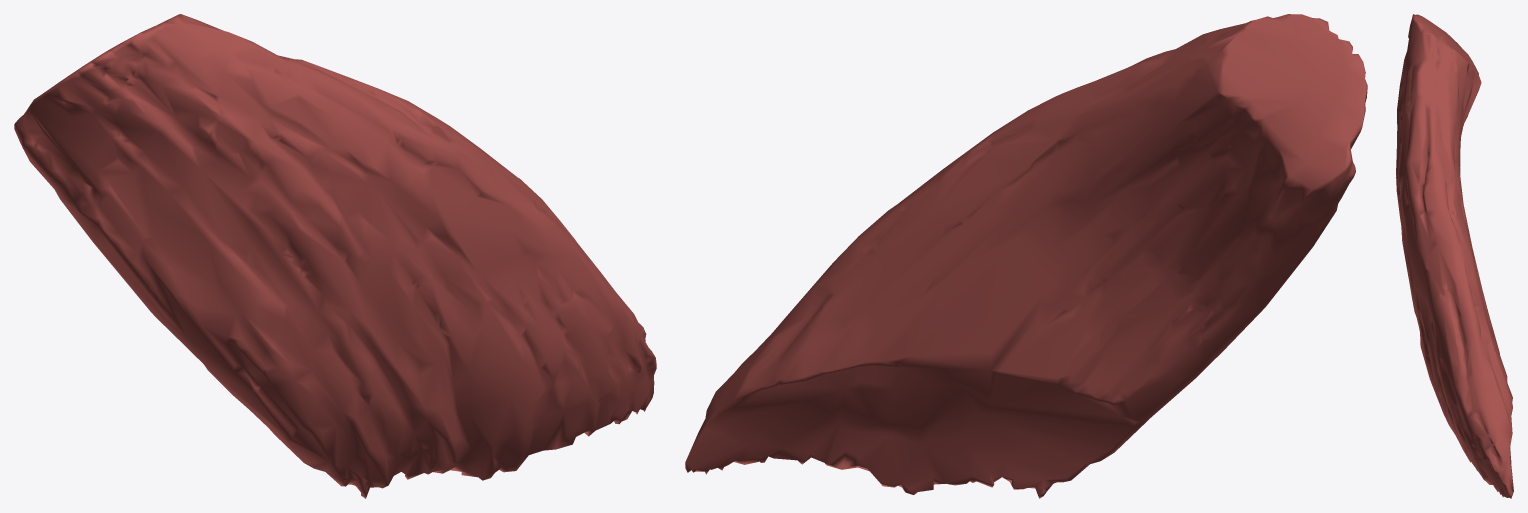
Rendered from FMA46314.glb.
3 views of the same model, side by side, from view 1: azimuth 30°, elevation 25°; view 2: azimuth 150°, elevation 25°; view 3: azimuth 270°, elevation 25° (orthographic). The views are drawn at different scales.
Visible parts, largest first — view 1: FMA46314; view 2: FMA46314; view 3: FMA46314.
Part boxes in pixels (bbox=[...]): FMA46314: bbox=[14, 14, 656, 498]; FMA46314: bbox=[685, 14, 1367, 498]; FMA46314: bbox=[1396, 14, 1513, 498].
Size of the model in its own units: 0.0242 by 0.0198 by 0.00652.
